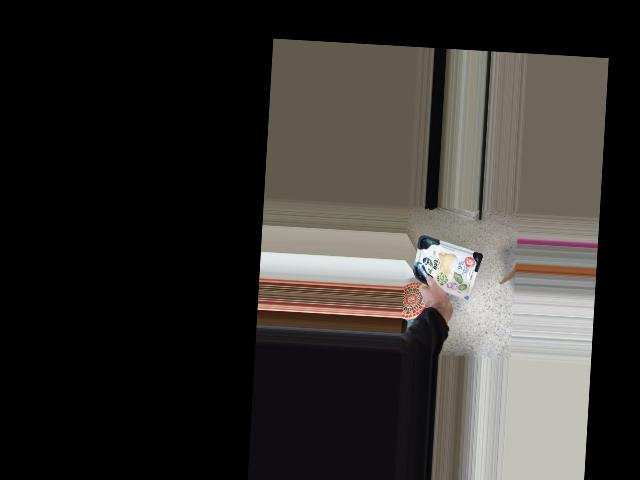cheese: (410, 234, 480, 300)
